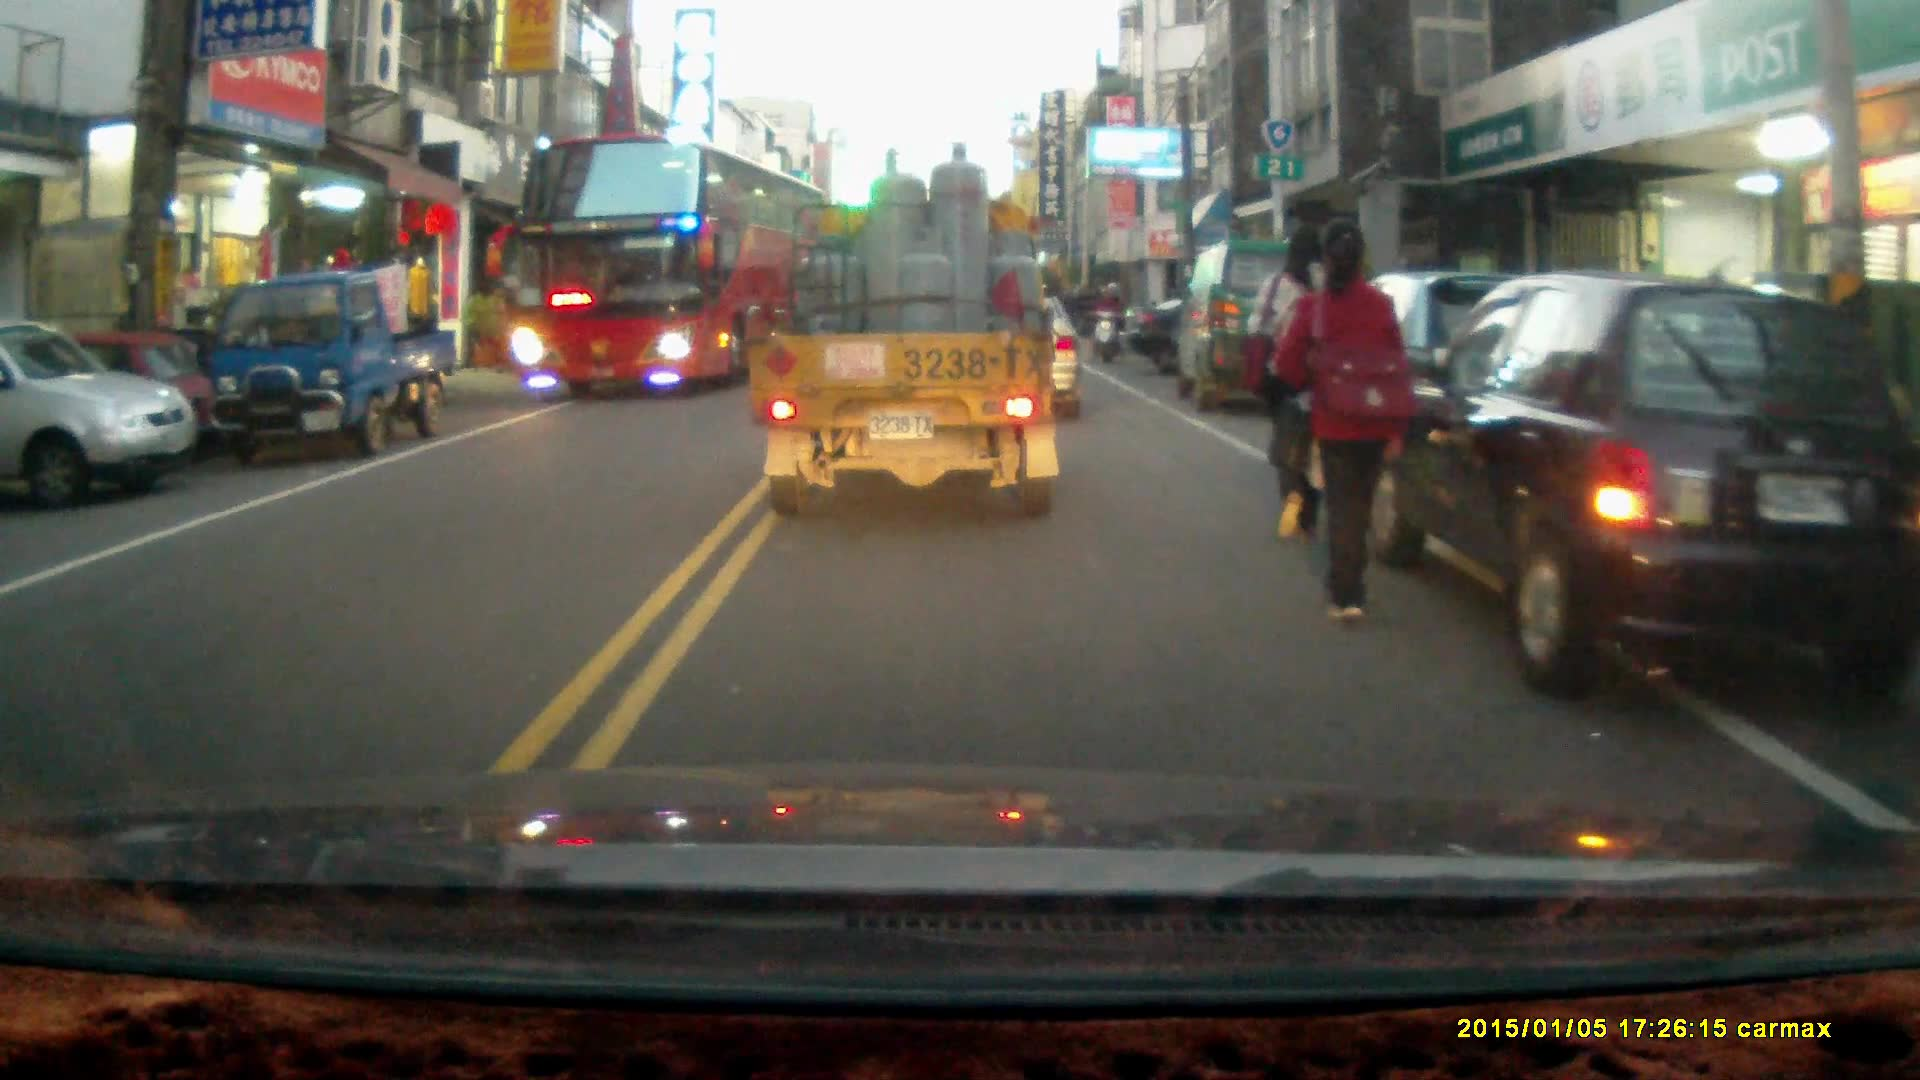pedestrian: (1273, 216, 1413, 622), (1246, 221, 1357, 550)
rider: (1089, 278, 1128, 365)
vehicle: (1378, 270, 1920, 709), (746, 142, 1068, 524), (509, 132, 827, 406), (205, 274, 463, 456), (1, 318, 196, 519), (1177, 238, 1373, 417)
